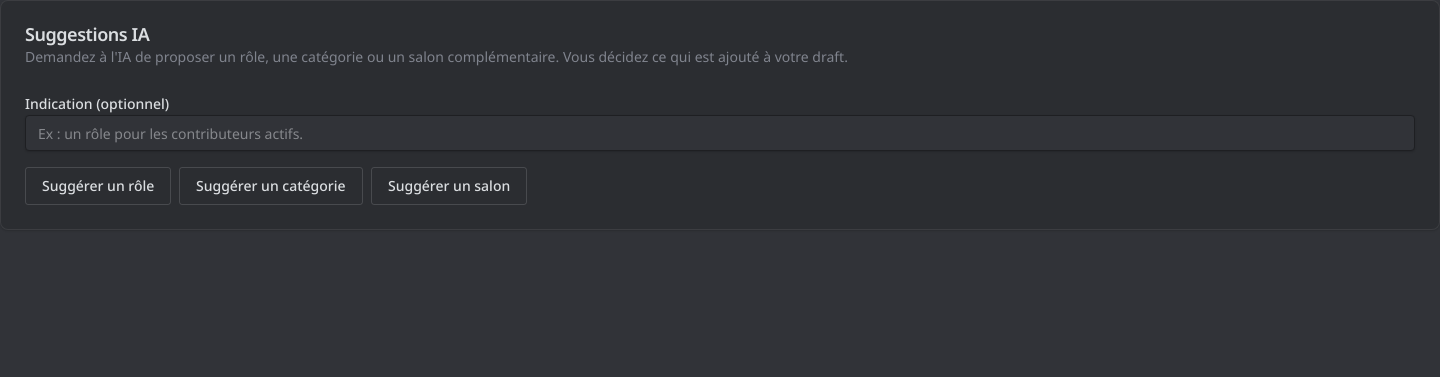
Test case: SuggestionsPanel › demande des suggestions pour un rôle et les affiche
Click the button "Suggérer un rôle". click: point(98, 186)
box: [25, 167, 171, 205]
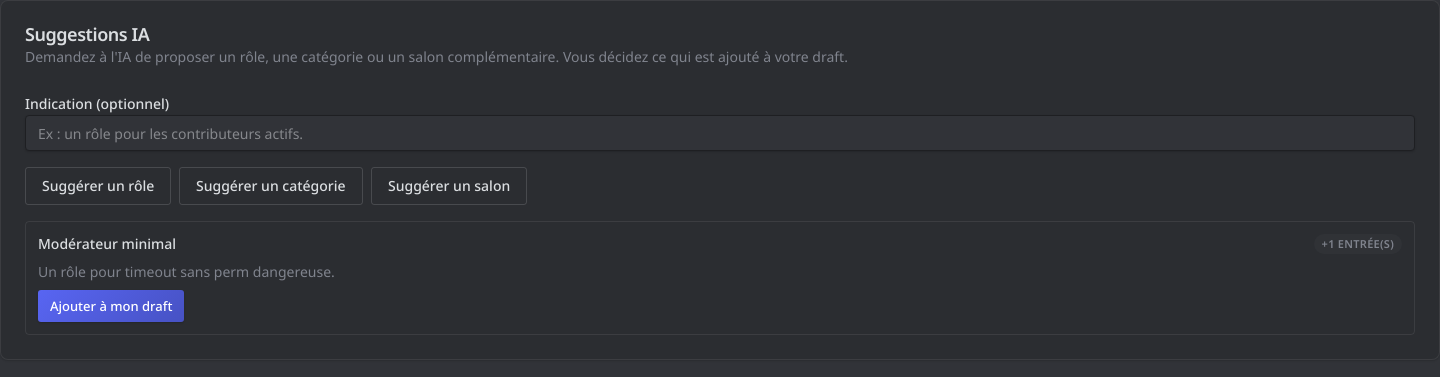
expect the text "Modérateur minimal" is shown: met, box [38, 234, 176, 254]
expect the text "Un rôle pour timeout sans perm dangereuse." is shown: met, box [38, 262, 335, 281]
